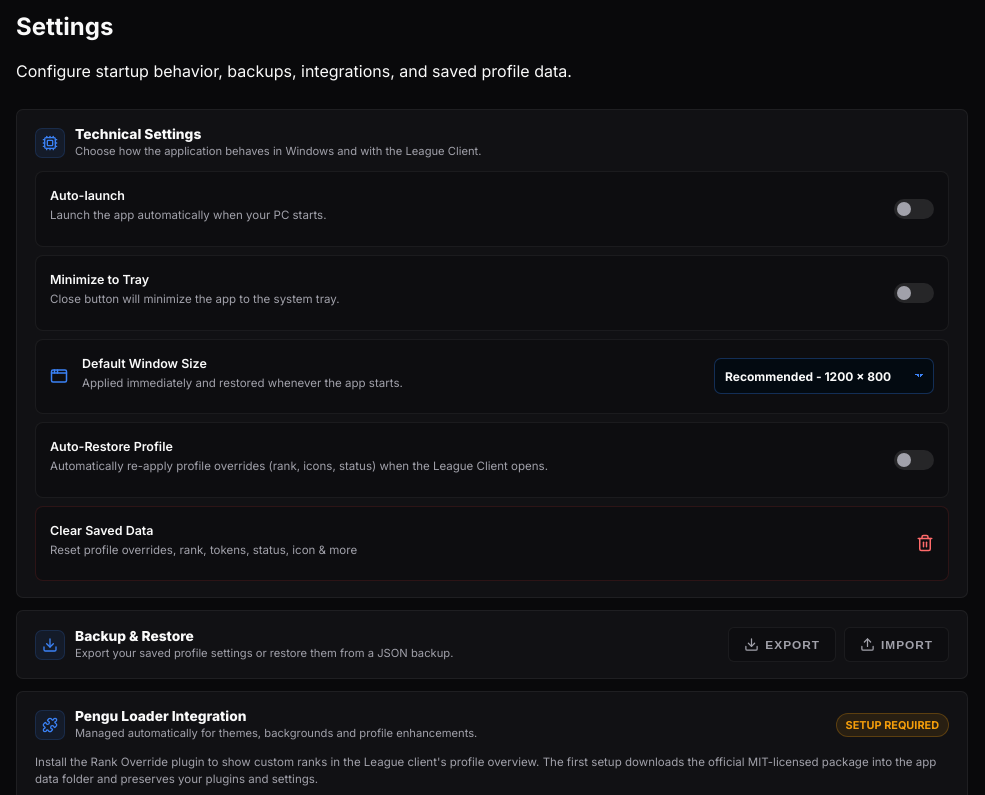
Test: SettingsTab › should hide checkbox panel on Cancel
The width and height of the screenshot is (985, 795).
What coordinates should you click on to do the following:
click the text "Clear Saved Data"
I would click on:
 (102, 530)
Its box is x1=50 y1=522 x2=153 y2=538.
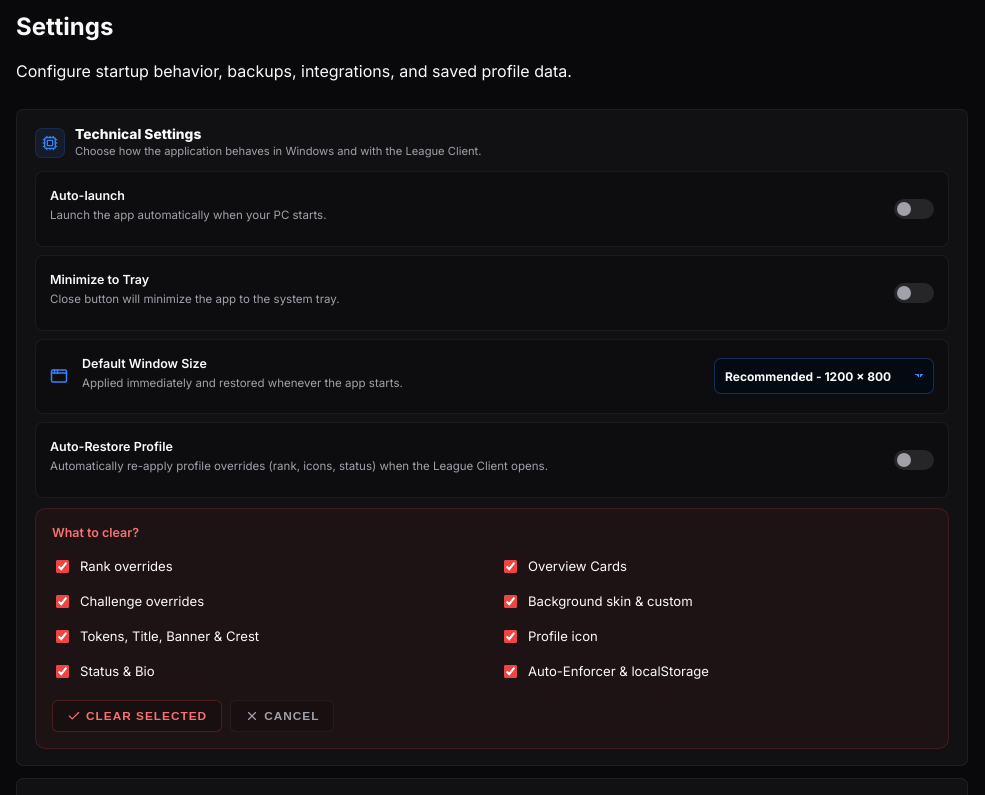
What coordinates should you click on to do the following:
click the button "Cancel"
I would click on:
 (282, 716)
Its box is x1=230 y1=700 x2=334 y2=732.
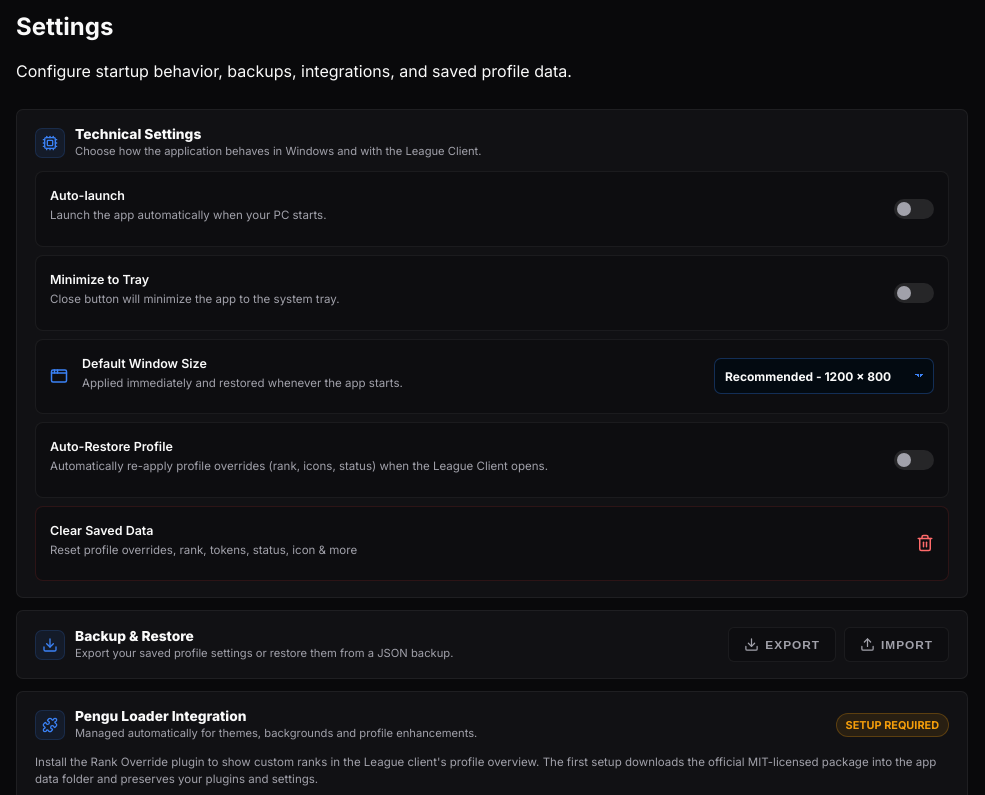
Expected: the text "What to clear?" is gone
